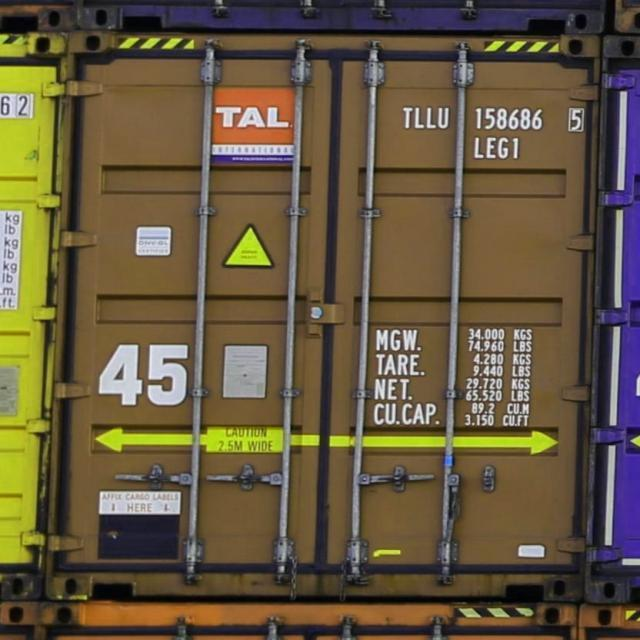ISO: (474, 136, 524, 162)
container_number: (408, 102, 584, 134)
